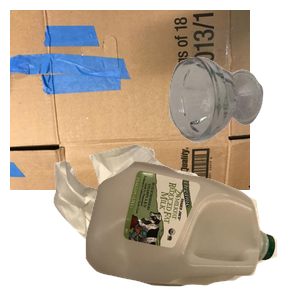cardboard: (10, 10, 250, 190)
glass: (166, 54, 300, 189)
plastic: (83, 159, 300, 300)
trash: (51, 142, 278, 300)
